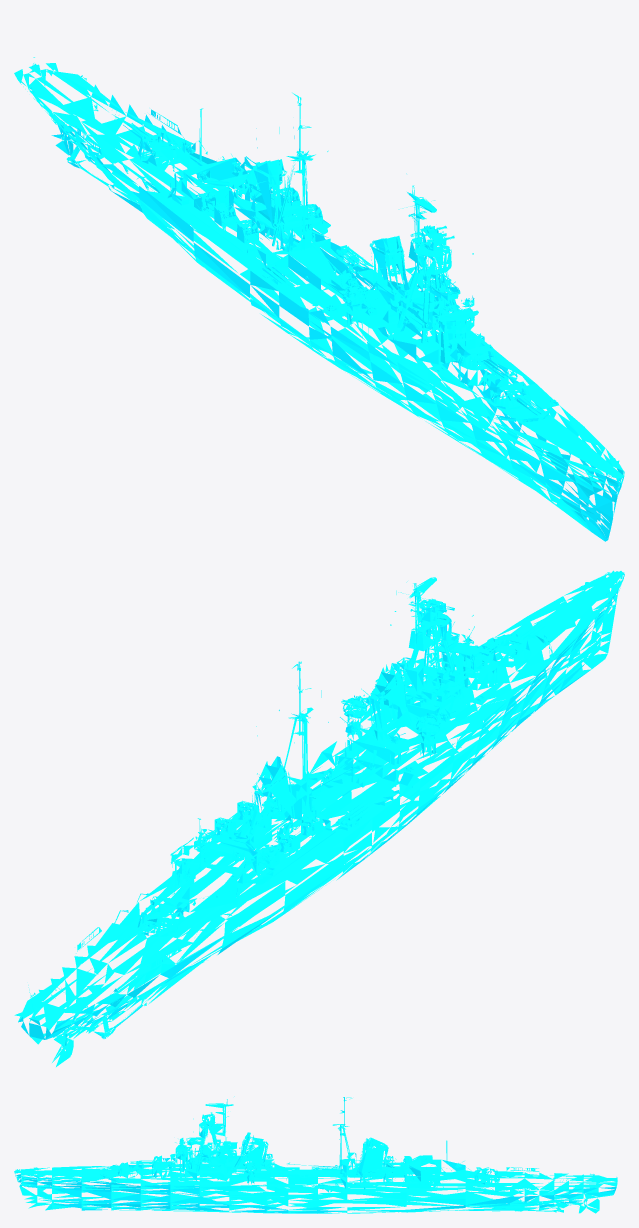
File: PRSC105.glb
3 renders of one model, top to bottom at view 1: azimuth 30°, elevation 25°; view 2: azimuth 150°, elevation 25°; view 3: azimuth 270°, elevation 25°, orthographic. The views are drawn at different scales.
Parts seen in each view (by area): view 1: hull_mid, hull_bow, hull_stern, main_battery, secondary_battery, superstructure, aa_mount, torpedo; view 2: hull_mid, hull_bow, hull_stern, main_battery, secondary_battery, superstructure, aa_mount; view 3: hull_mid, hull_bow, hull_stern, main_battery, secondary_battery, superstructure, torpedo, aa_mount.
Boxes of the visible parts, x1,y1,x2,y2 form: hull_mid: (101, 92, 509, 441); hull_bow: (428, 359, 624, 541); hull_stern: (14, 57, 193, 198); main_battery: (123, 123, 545, 415); secondary_battery: (189, 185, 325, 243); superstructure: (300, 98, 454, 306); aa_mount: (182, 135, 474, 315); torpedo: (262, 245, 373, 287); hull_mid: (109, 577, 509, 1005); hull_bow: (428, 570, 624, 758); hull_stern: (14, 923, 193, 1066); main_battery: (123, 624, 545, 941); secondary_battery: (194, 796, 326, 867); superstructure: (300, 598, 454, 737); aa_mount: (182, 622, 474, 880); hull_mid: (151, 1096, 523, 1213); hull_bow: (14, 1164, 184, 1210); hull_stern: (495, 1167, 617, 1213); main_battery: (96, 1154, 521, 1183); secondary_battery: (351, 1156, 423, 1183); superstructure: (202, 1097, 343, 1174); torpedo: (311, 1165, 339, 1190); aa_mount: (175, 1138, 464, 1173).
Size of the model in its own units: 1.23 by 2.74 by 12.9.
